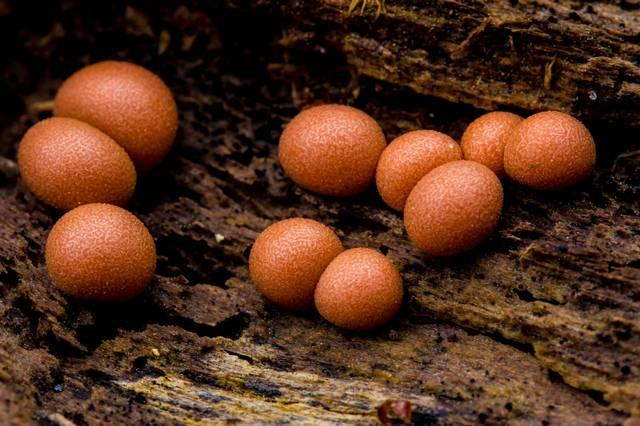Non-edible Mushroom: (248, 99, 597, 329), (51, 59, 179, 167), (43, 201, 157, 302), (16, 115, 137, 210), (277, 102, 386, 196), (402, 158, 504, 255), (247, 216, 343, 309), (313, 246, 403, 330), (502, 109, 596, 189), (375, 128, 462, 211), (460, 109, 523, 173)
